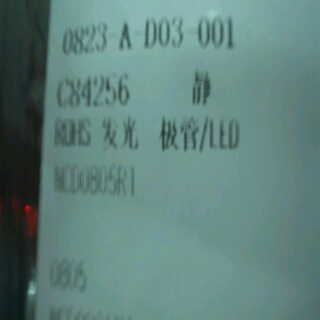LED: (97, 112, 253, 160)
